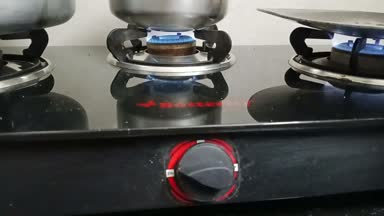flame_gas_on: (109, 21, 249, 203), (286, 22, 384, 99)
